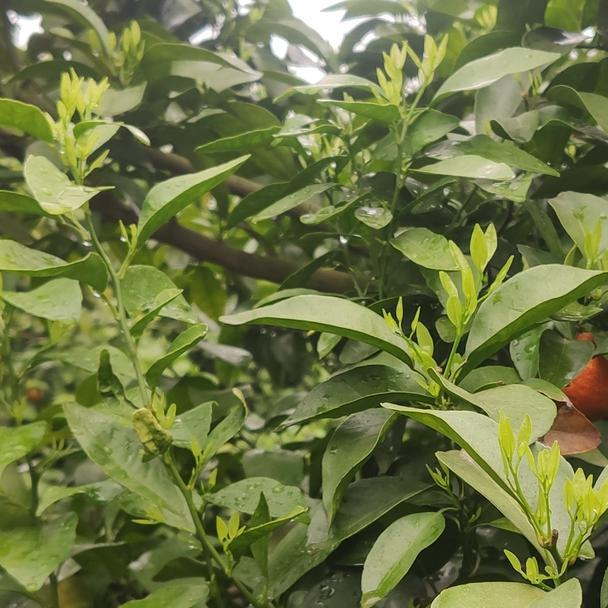shoot: (437, 233, 510, 367), (387, 301, 441, 381), (558, 467, 608, 553), (369, 38, 422, 107), (489, 420, 534, 500), (405, 32, 466, 90), (527, 443, 563, 517)
